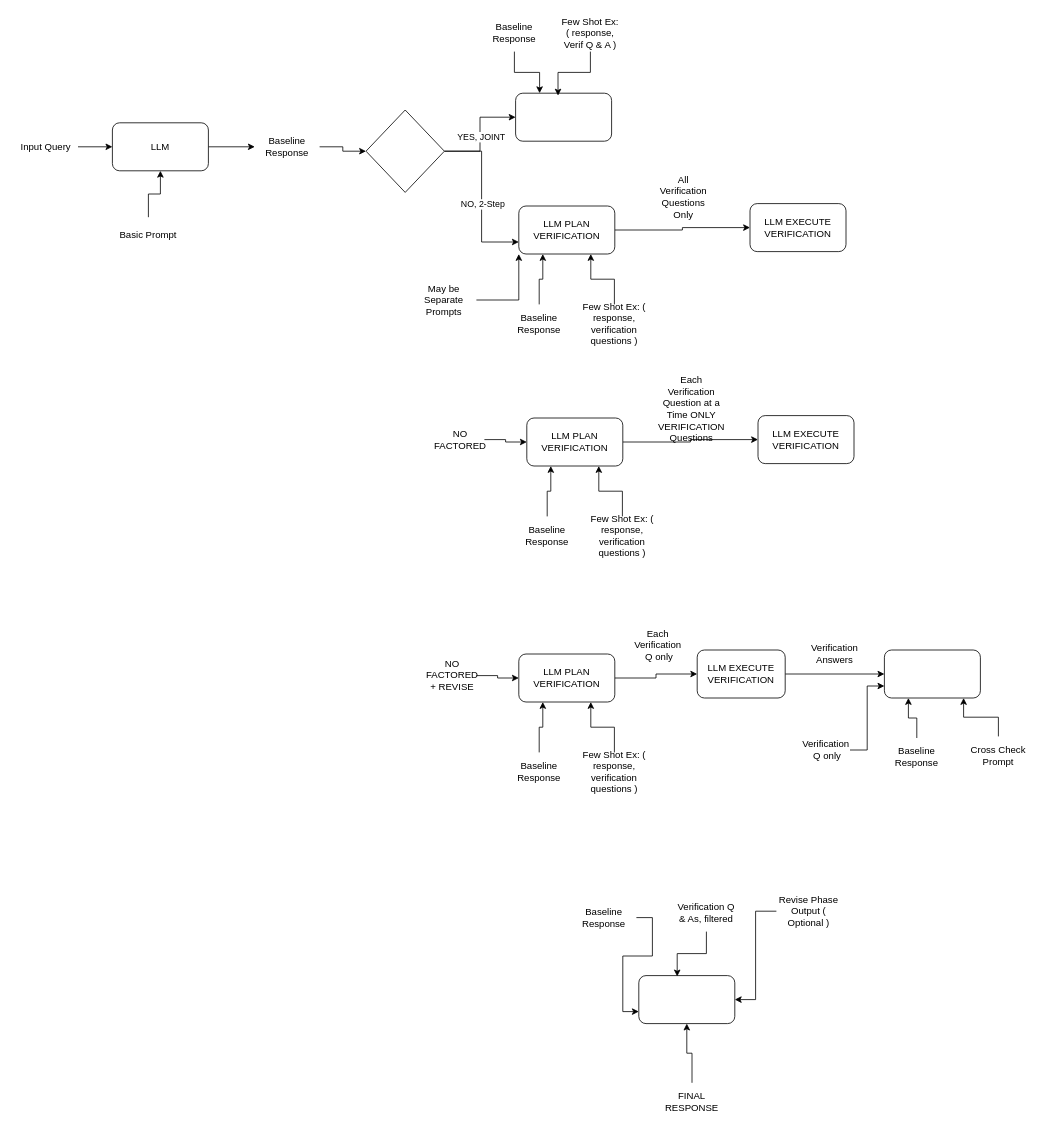
The diagram is 1044 pixels wide and 1134 high, and some of its shapes have lost their labels. Here are the shapes that lost their labels. From the top down, the centre of each, then its label:
At point 563,116: "LLM PLAN & EXECUTE VERIFICATION".
At point 404,150: "Same Phase Verification".
At point 932,673: "LLM REVISE PHASE".
At point 686,999: "FINAL VERIFIED RESPONSE".
